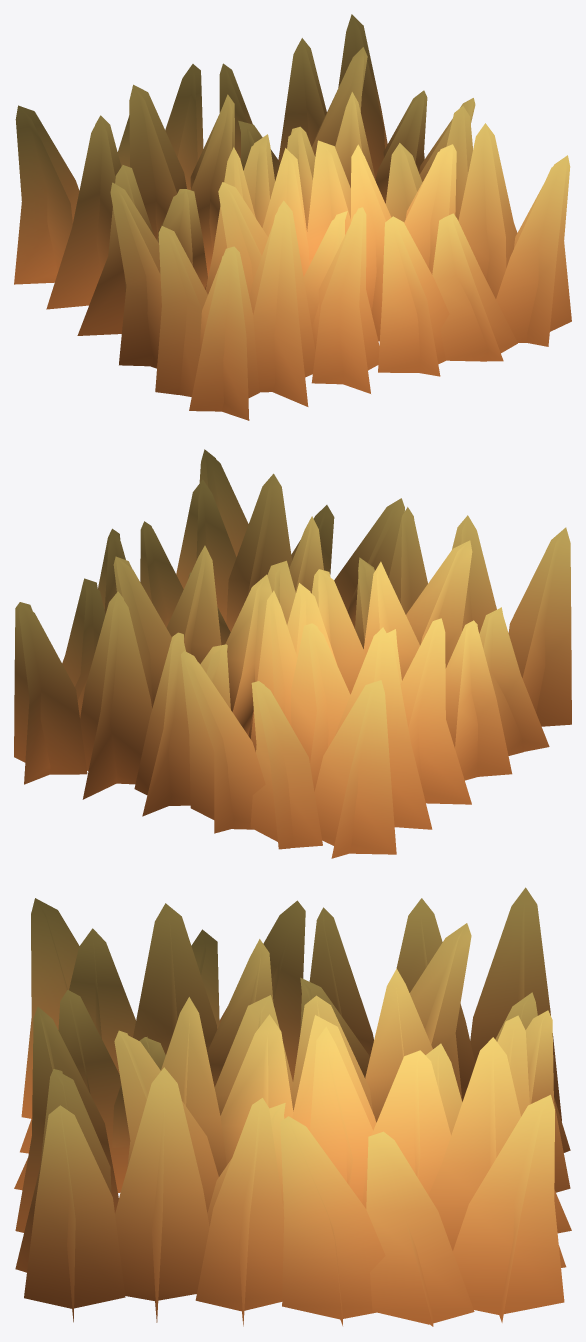
The model's file is HI_Grass_2x1x2.fbx.
The picture shows the model from 3 angles, top to bottom: view 1: azimuth 30°, elevation 25°; view 2: azimuth 150°, elevation 25°; view 3: azimuth 270°, elevation 25°; orthographic projection. The views are drawn at different scales.
Parts seen in each view (by area): view 1: HI_Grass_2x1x2; view 2: HI_Grass_2x1x2; view 3: HI_Grass_2x1x2.
Boxes of the visible parts, <box> form: HI_Grass_2x1x2: <box>14,14,571,420</box>; HI_Grass_2x1x2: <box>14,449,571,858</box>; HI_Grass_2x1x2: <box>14,887,571,1326</box>.
Size of the model in its own units: 211 by 103 by 211.
